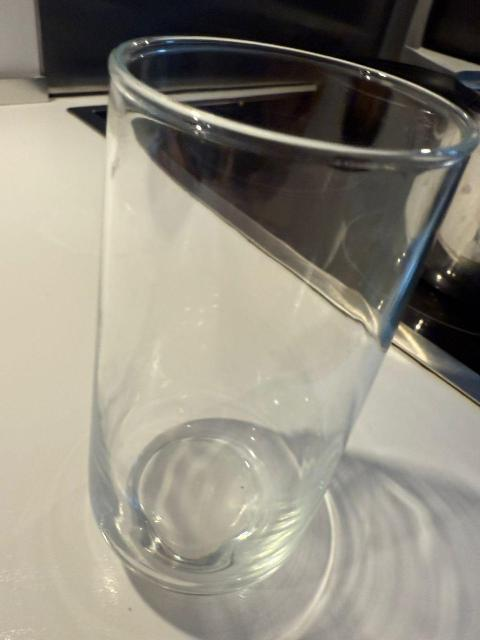Cam: (81, 33, 480, 596)
